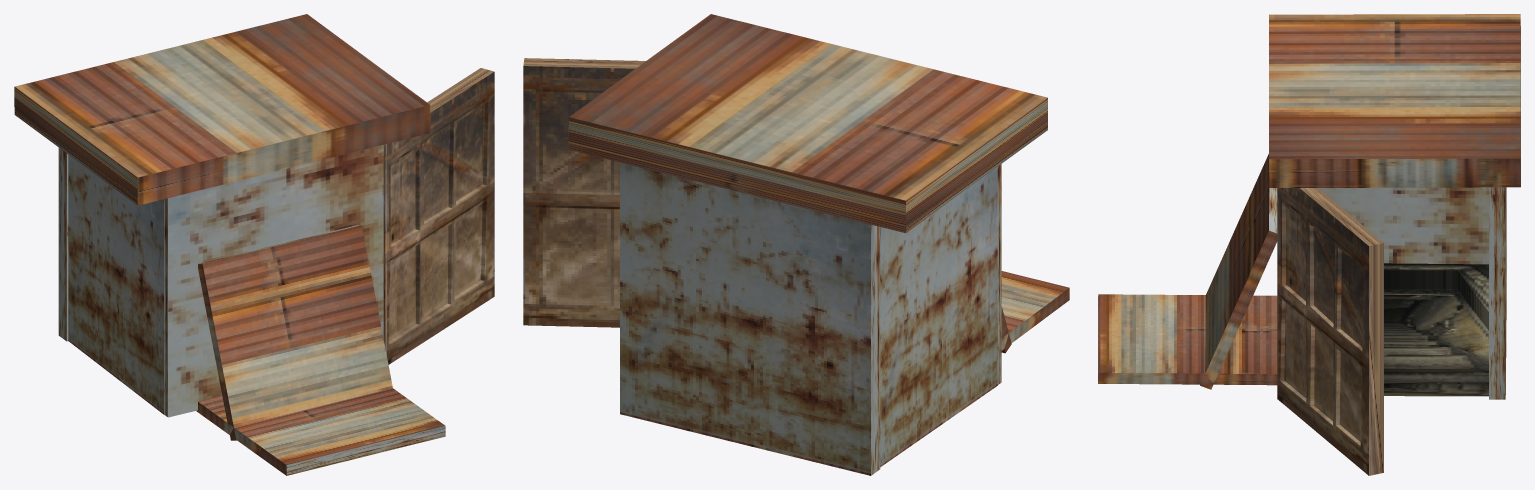
Rendered from Undeground.fbx.
3 views of the same model, side by side, from view 1: azimuth 30°, elevation 25°; view 2: azimuth 150°, elevation 25°; view 3: azimuth 270°, elevation 25° (orthographic). The views are drawn at different scales.
Visible parts, largest first — view 1: Cube.005; view 2: Cube.005; view 3: Cube.005.
Boxes of the visible parts, x1,y1,x2,y2 form: Cube.005: [14, 14, 494, 475]; Cube.005: [523, 14, 1069, 475]; Cube.005: [1098, 14, 1520, 475].
Bounding box in the file's own units: 1017 × 624 × 899.
Materials: 1 (1 with a texture image).
